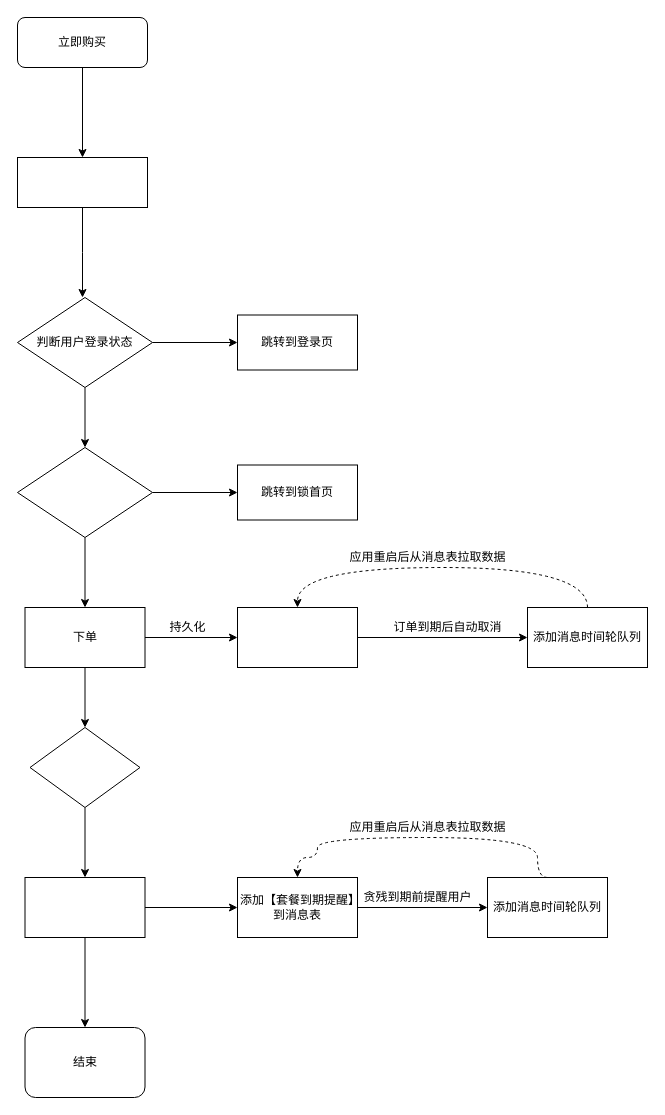
Some shapes in this 665 by 1115 pixel diagram are drawn without their labels. Here are the shapes that lost their labels. From the top down, the centre of each, then its label:
At (82,182): "点击立即购买".
At (84,492): "判断云存储套餐是否支持购买".
At (297,637): "添加【未支付自动取消消息】到消息表".
At (84,767): "支付成功？".
At (84,907): "开通套餐".
